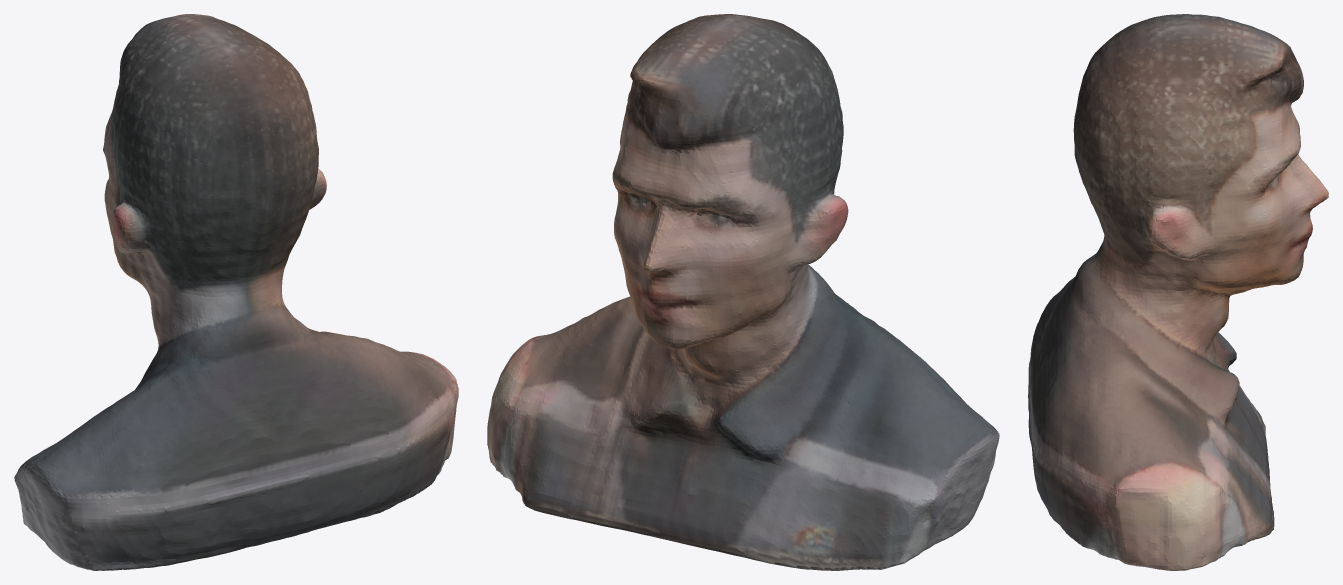
File: CristianoRonaldo.glb
3 views of the same model, side by side, from view 1: azimuth 30°, elevation 25°; view 2: azimuth 150°, elevation 25°; view 3: azimuth 270°, elevation 25° (orthographic). The views are drawn at different scales.
Visible parts, largest first — view 1: world; view 2: world; view 3: world.
Boxes of the visible parts, x1,y1,x2,y2 form: world: (14, 14, 458, 570); world: (487, 14, 999, 570); world: (1028, 14, 1328, 570).
Size of the model in its own units: 1.91 by 1.94 by 1.19.
